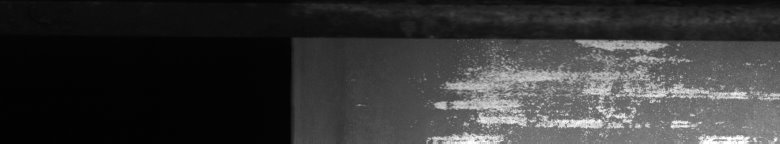kb: (427, 32, 776, 136)
